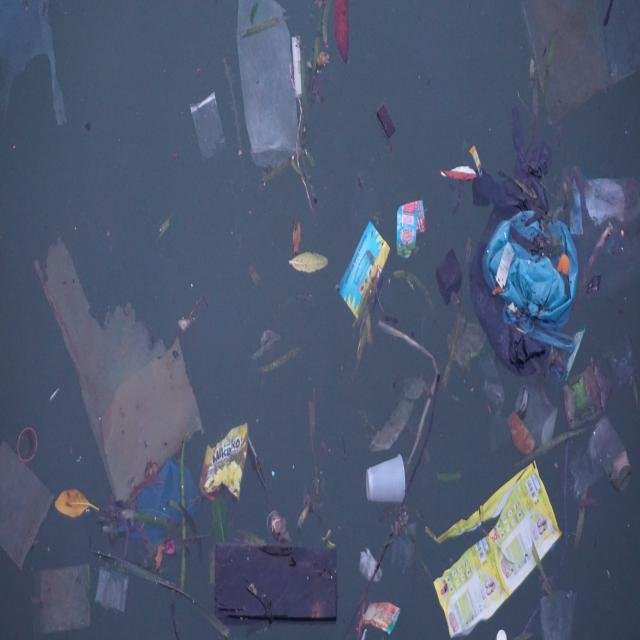Bungkus Makanan: (202, 418, 251, 506)
Bungkus Minuman: (591, 413, 633, 495), (518, 381, 560, 450), (366, 454, 408, 508)
Kantong Plastik: (466, 150, 583, 379), (239, 2, 307, 172), (1, 427, 56, 572), (583, 174, 640, 288), (136, 460, 204, 555), (33, 559, 95, 640), (190, 90, 228, 165)
